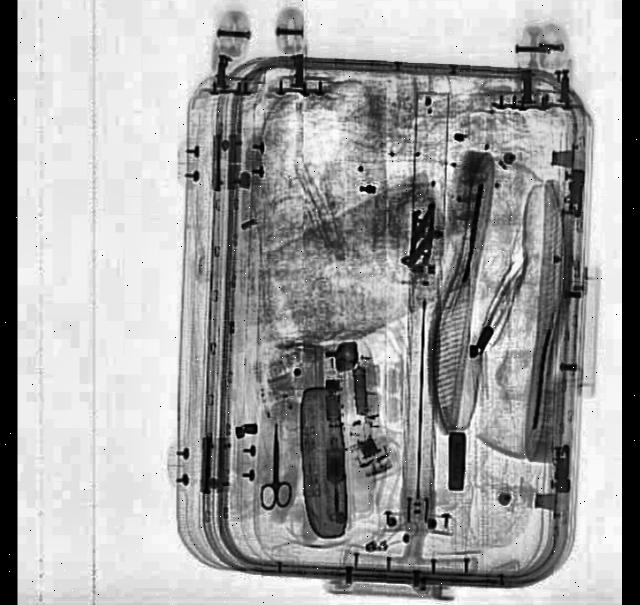Scissors: (258, 422, 288, 511)
